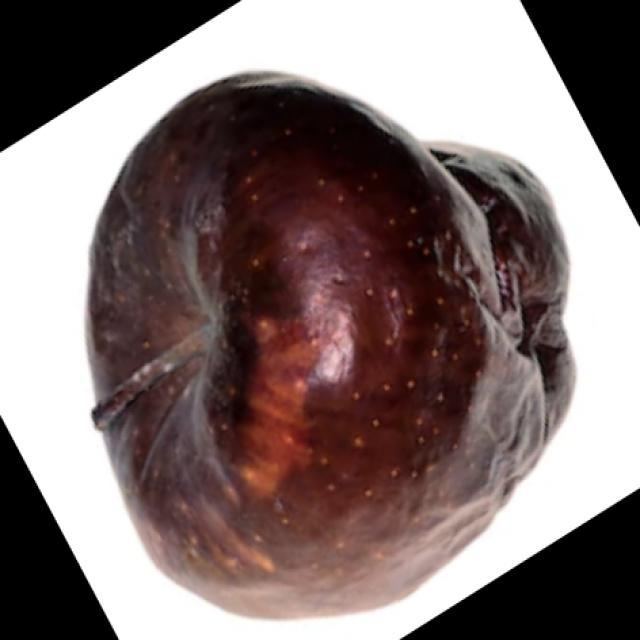Rotten: (107, 71, 568, 592)
